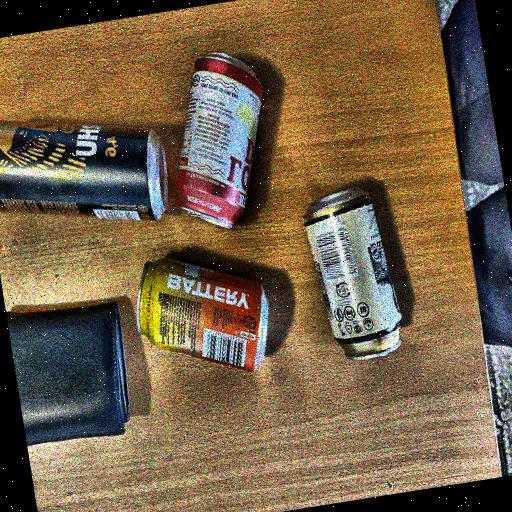karhu: (0, 77, 175, 254)
koff: (173, 34, 268, 233)
sandels: (293, 166, 418, 371)
